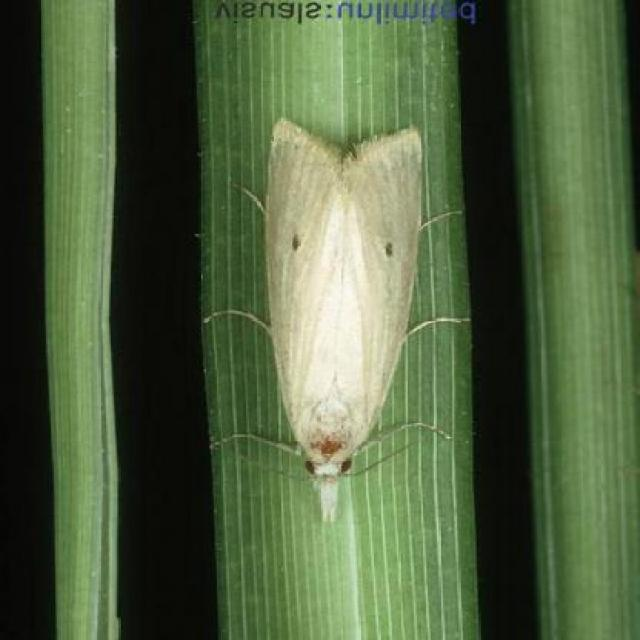stem-borer: (231, 114, 431, 528)
